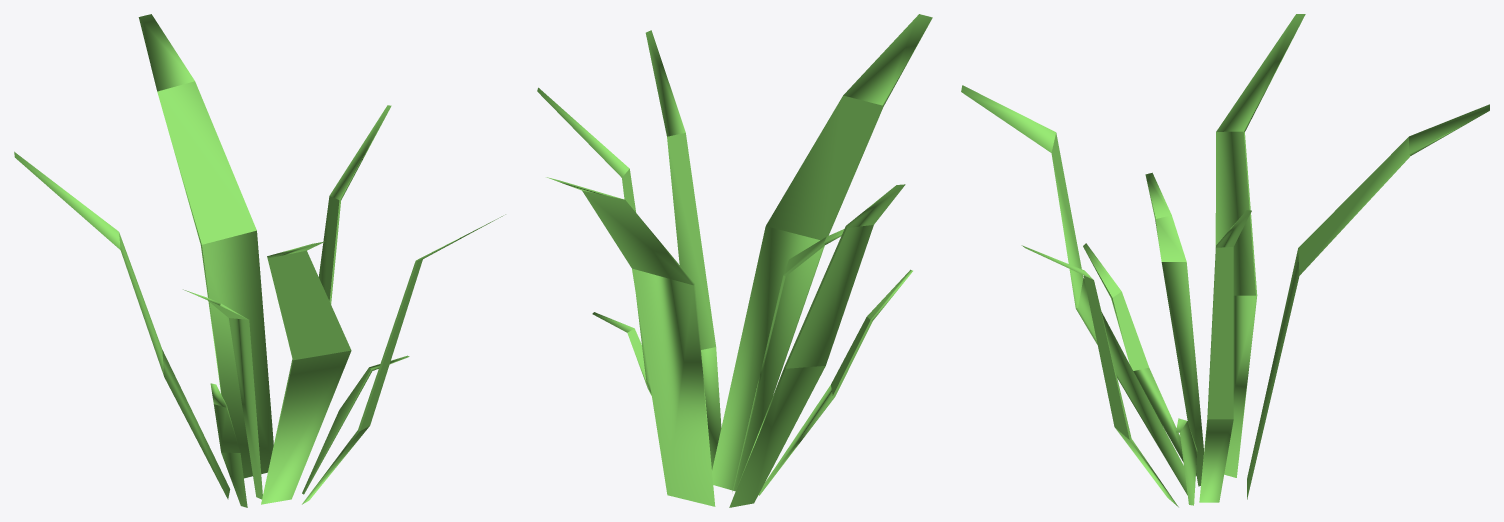
The model's file is Grass2.fbx.
3 renders of one model, left to right at view 1: azimuth 30°, elevation 25°; view 2: azimuth 150°, elevation 25°; view 3: azimuth 270°, elevation 25°, orthographic. The views are drawn at different scales.
Visible parts, largest first — view 1: Grass_2; view 2: Grass_2; view 3: Grass_2.
Part boxes in pixels (left/top/right/bottom): Grass_2: left=14, top=14, right=505, bottom=507; Grass_2: left=537, top=14, right=932, bottom=507; Grass_2: left=961, top=14, right=1489, bottom=507.
Bounding box in the file's own units: 25.42 × 25.35 × 30.87.
